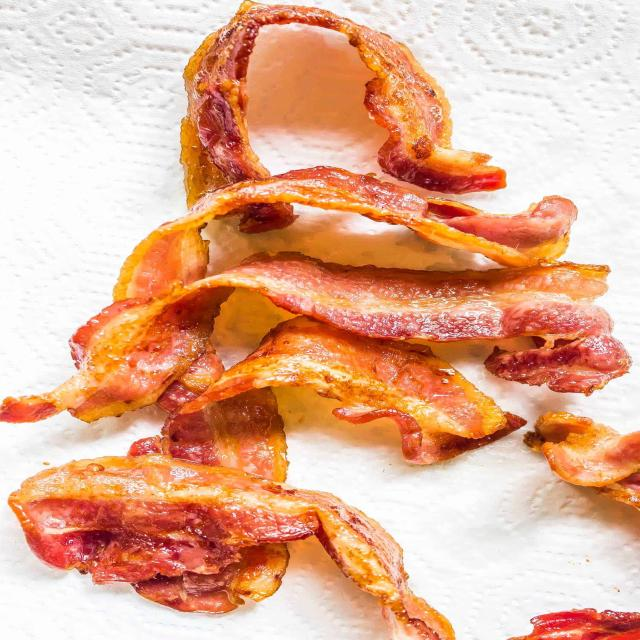Bacon: (9, 455, 454, 639), (182, 1, 506, 205), (114, 166, 578, 300), (180, 318, 527, 464), (191, 252, 613, 341), (0, 288, 232, 422)
